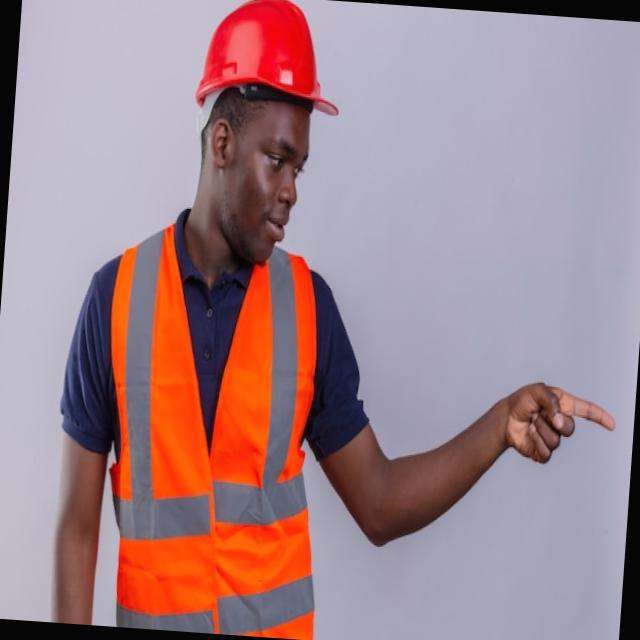helmet: (185, 0, 353, 139)
vest: (104, 220, 341, 640)
